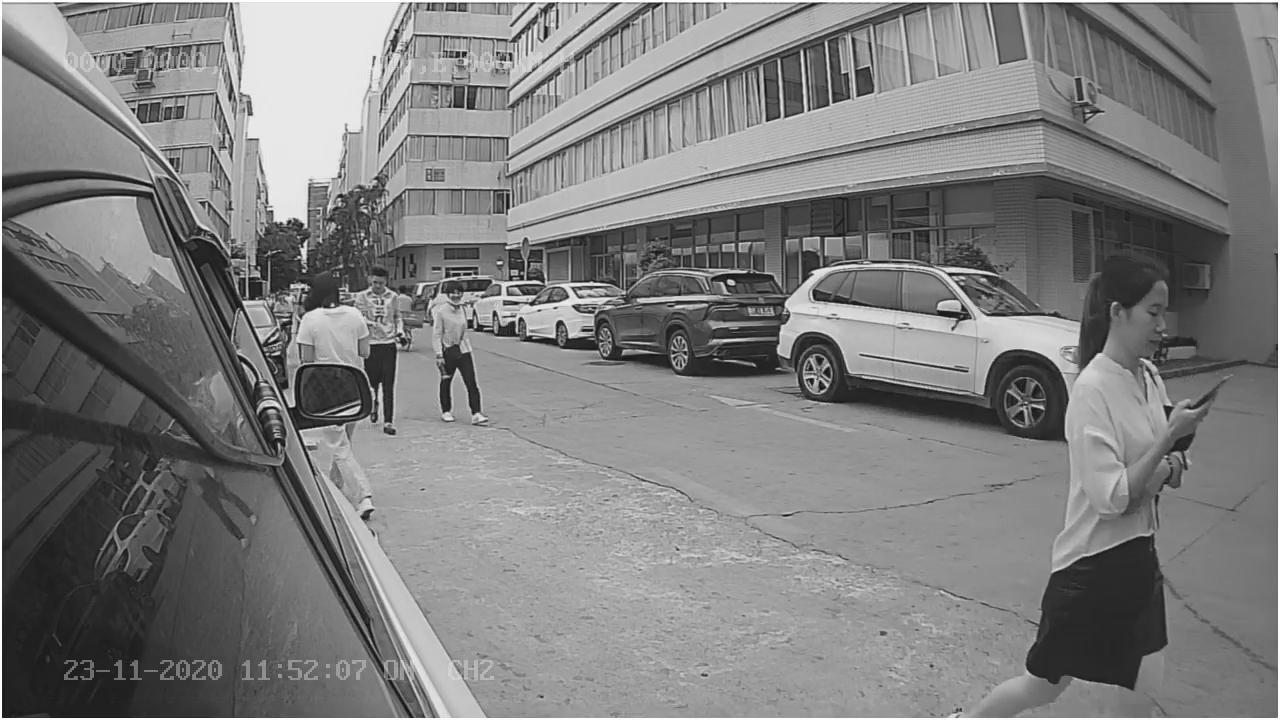person: (1056, 248, 1217, 513), (426, 280, 492, 427)
